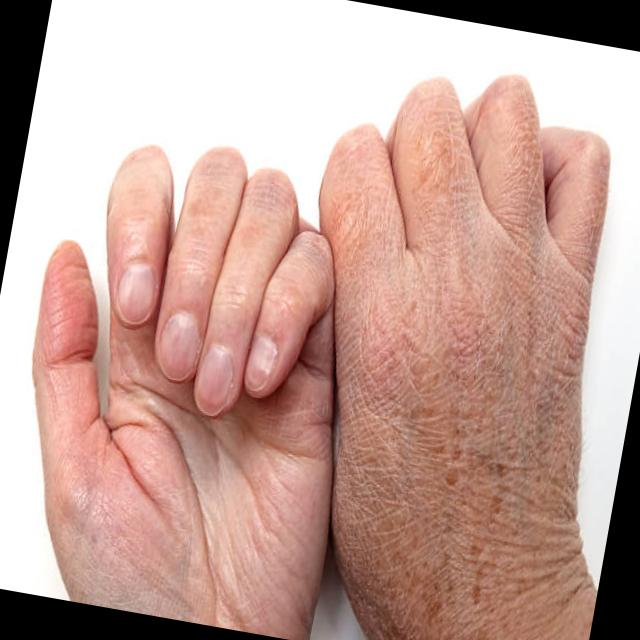Nail: (158, 311, 201, 381), (194, 343, 233, 416), (117, 261, 156, 325), (244, 334, 278, 392)
